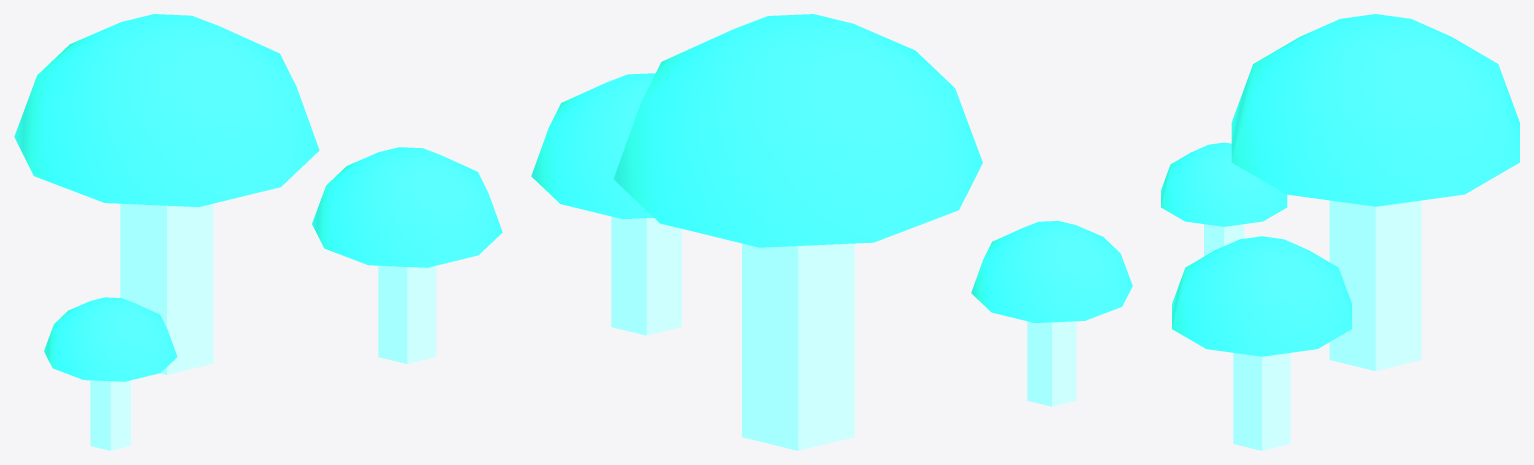
The model's file is mushrooms_glow.glb.
3 views of the same model, side by side, from view 1: azimuth 30°, elevation 25°; view 2: azimuth 150°, elevation 25°; view 3: azimuth 270°, elevation 25° (orthographic). The views are drawn at different scales.
Parts seen in each view (by area): view 1: mushrooms_glow; view 2: mushrooms_glow; view 3: mushrooms_glow.
Boxes of the visible parts, x1=… form: mushrooms_glow: x1=14, y1=14, x2=502, y2=450; mushrooms_glow: x1=531, y1=14, x2=1132, y2=450; mushrooms_glow: x1=1161, y1=14, x2=1519, y2=450.
Size of the model in its own units: 0.275 by 0.184 by 0.1894.
